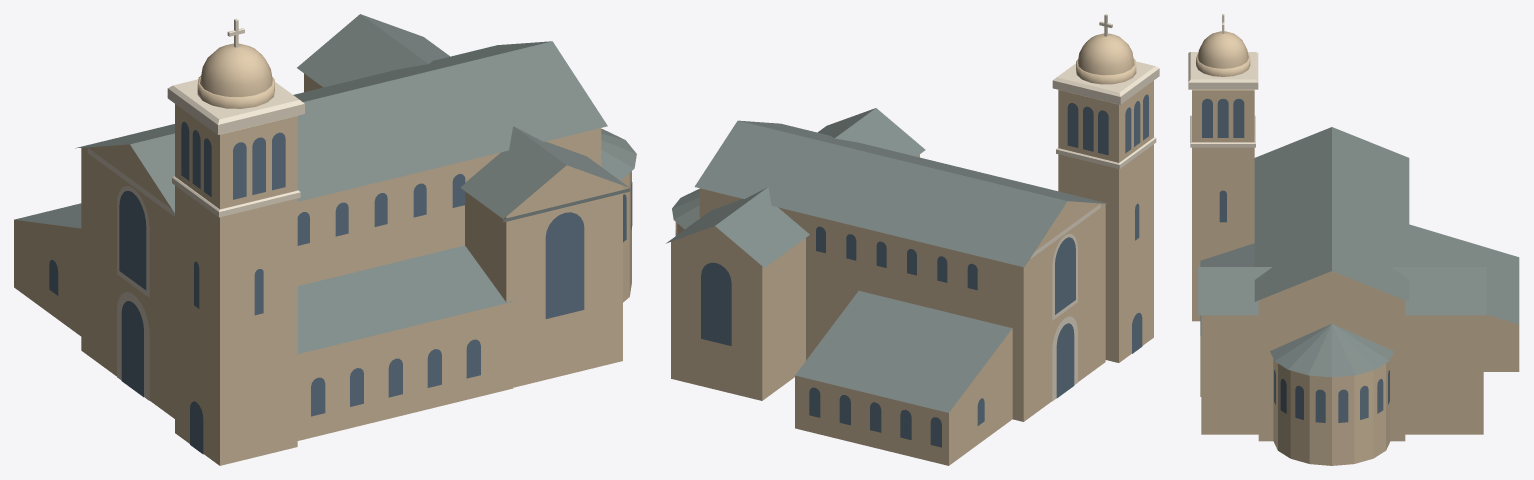
File: den-holy-ghost-church.glb
3 views of the same model, side by side, from view 1: azimuth 30°, elevation 25°; view 2: azimuth 150°, elevation 25°; view 3: azimuth 270°, elevation 25° (orthographic). The views are drawn at different scales.
Parts seen in each view (by area): view 1: Holy Ghost Catholic Church; view 2: Holy Ghost Catholic Church; view 3: Holy Ghost Catholic Church.
Boxes of the visible parts, x1,y1,x2,y2 form: Holy Ghost Catholic Church: [14, 14, 636, 465]; Holy Ghost Catholic Church: [666, 14, 1159, 465]; Holy Ghost Catholic Church: [1188, 14, 1519, 465].
Size of the model in its own units: 39.39 by 31 by 31.71.
